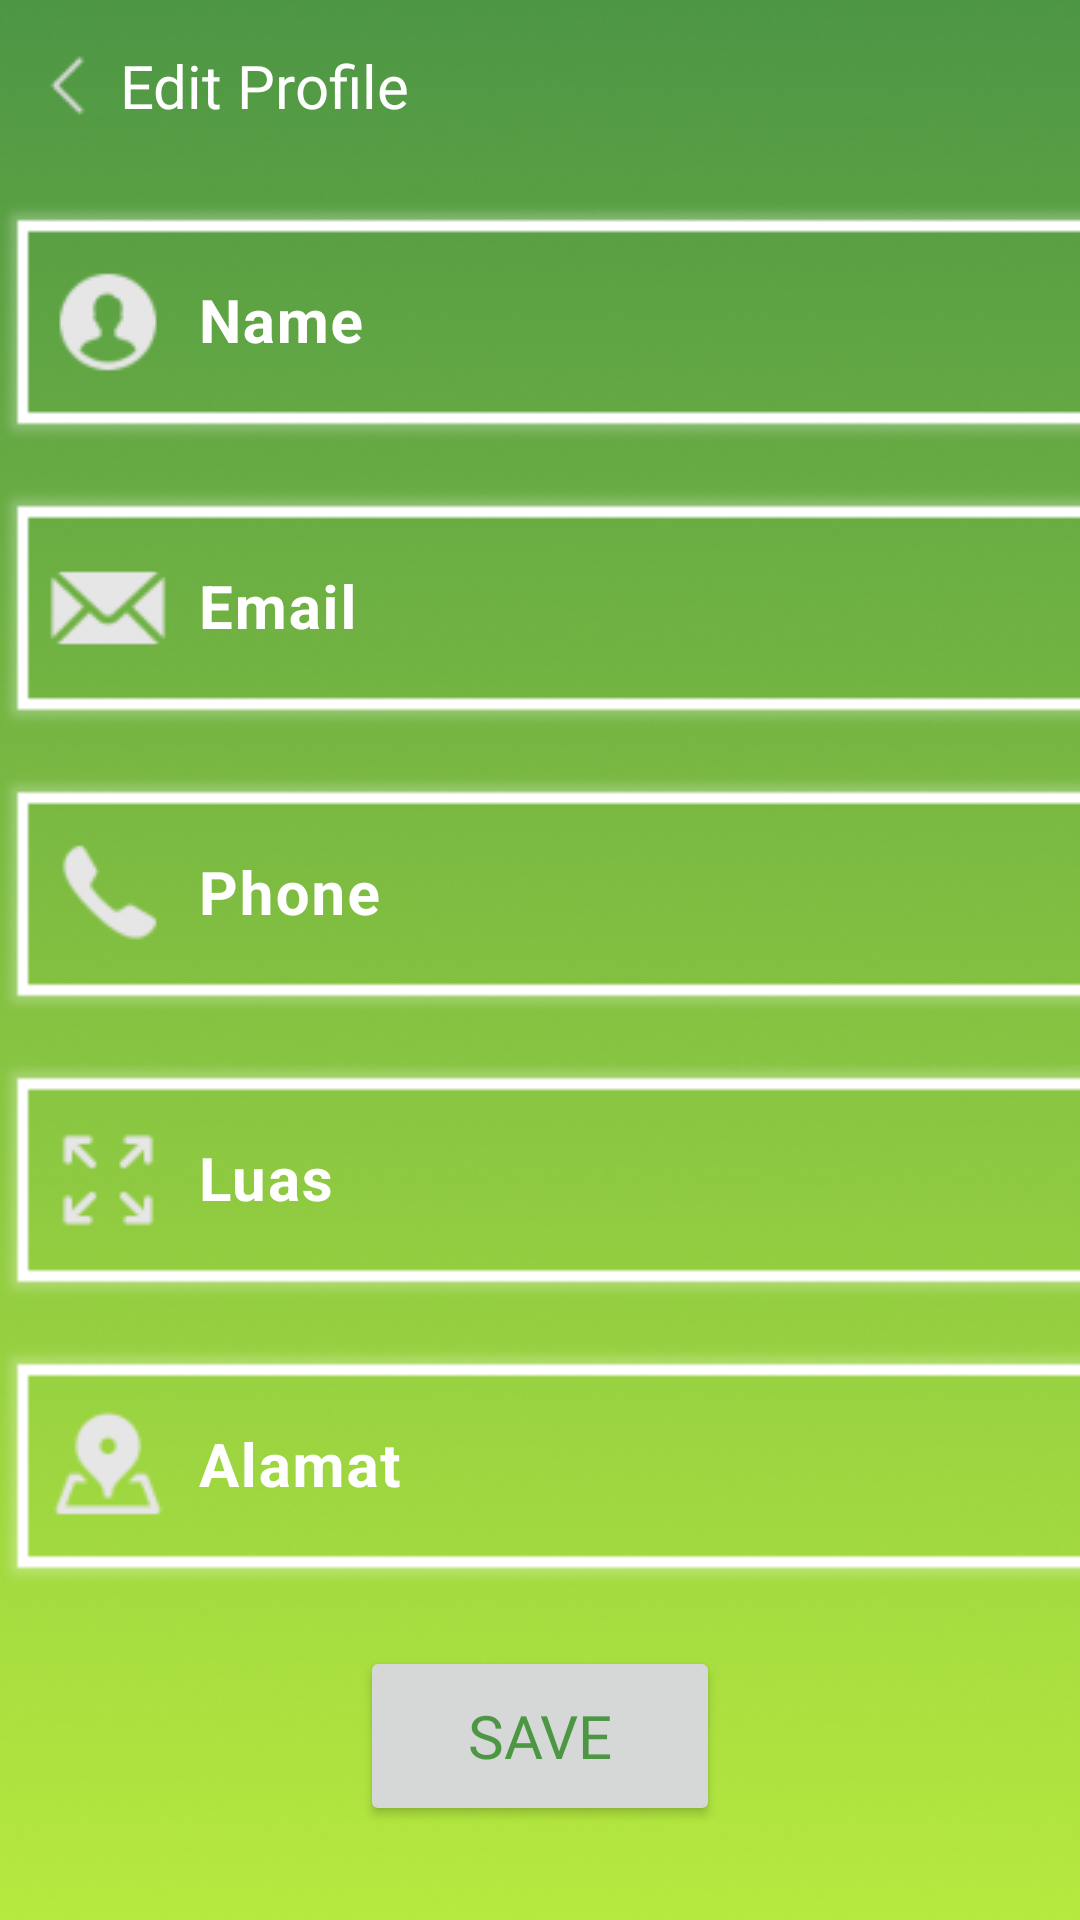

Named icons in this screenshot (1080x1920) and their centers, (x,y):
back: (67,85)
